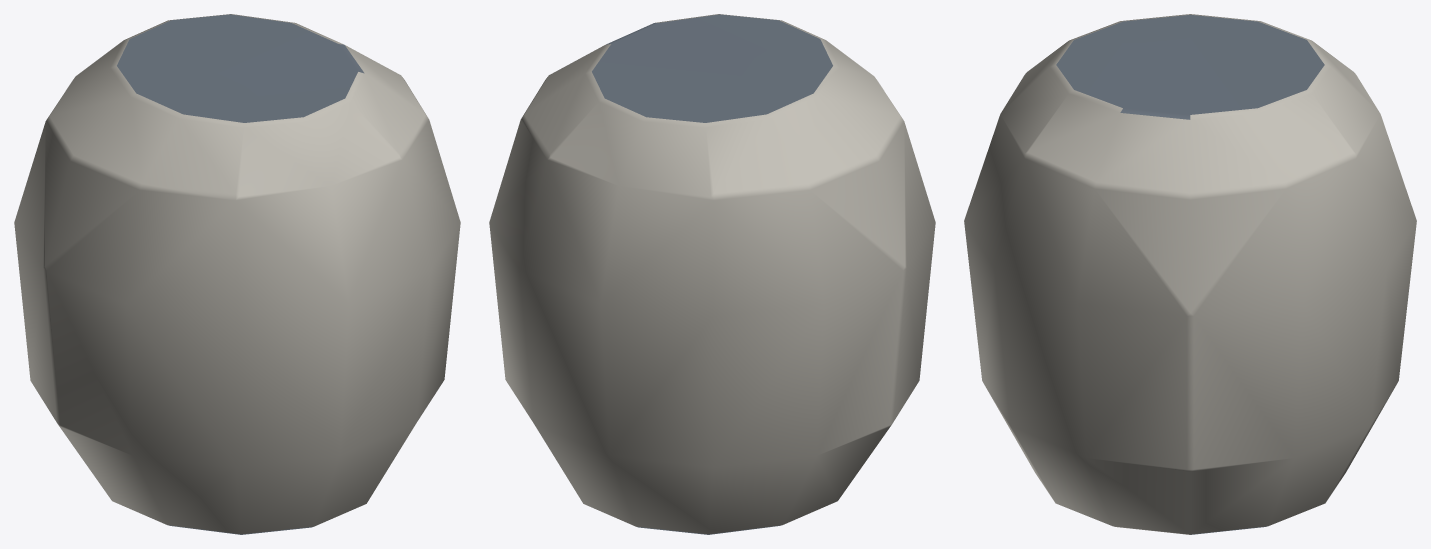
The model's file is knee.glb.
3 views of the same model, side by side, from view 1: azimuth 30°, elevation 25°; view 2: azimuth 150°, elevation 25°; view 3: azimuth 270°, elevation 25° (orthographic).
Visible parts, largest first — view 1: knee; view 2: knee; view 3: knee.
Part boxes in pixels (x1,y1,x2,y2): knee: [14, 14, 460, 534]; knee: [489, 14, 935, 534]; knee: [964, 14, 1416, 534].
Size of the model in its own units: 0.9959 by 1 by 1.
